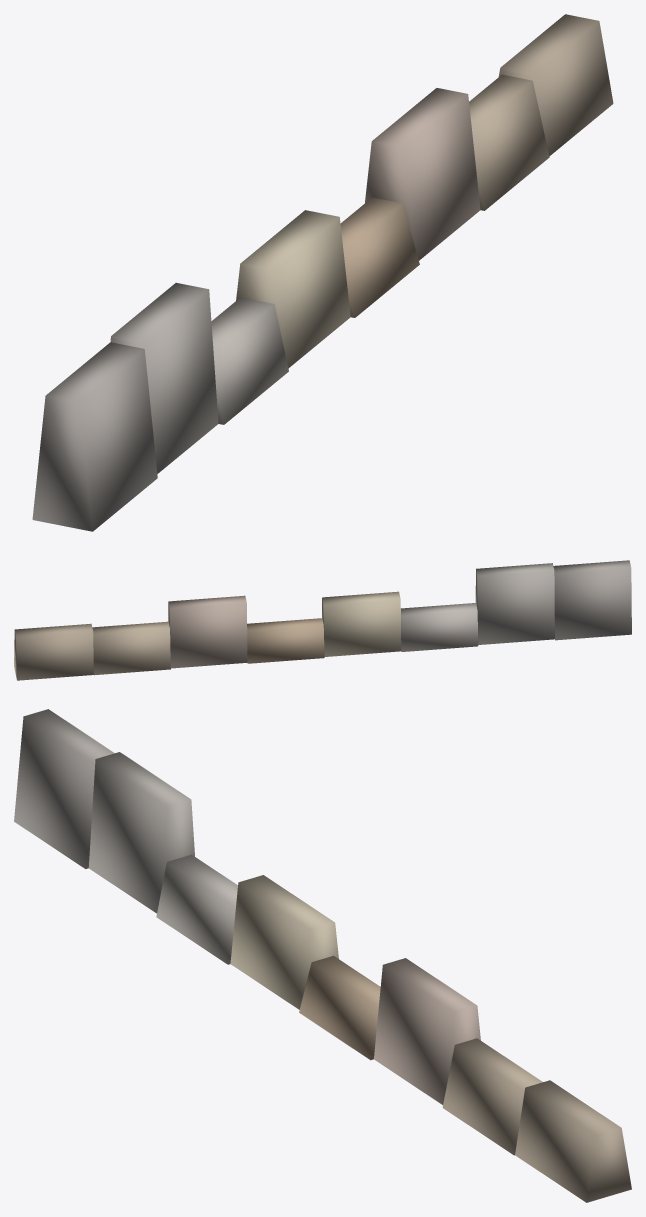
File: farm_14_12_collision.glb
The picture shows the model from 3 angles, top to bottom: view 1: azimuth 30°, elevation 25°; view 2: azimuth 150°, elevation 25°; view 3: azimuth 270°, elevation 25°; orthographic projection. The views are drawn at different scales.
Parts seen in each view (by area): view 1: geometry_0; view 2: geometry_0; view 3: geometry_0.
Boxes of the visible parts, bbox=[...] form: geometry_0: bbox=[32, 14, 613, 531]; geometry_0: bbox=[14, 560, 631, 680]; geometry_0: bbox=[14, 709, 631, 1202].
Size of the model in its own units: 10.81 by 1.96 by 7.89.
